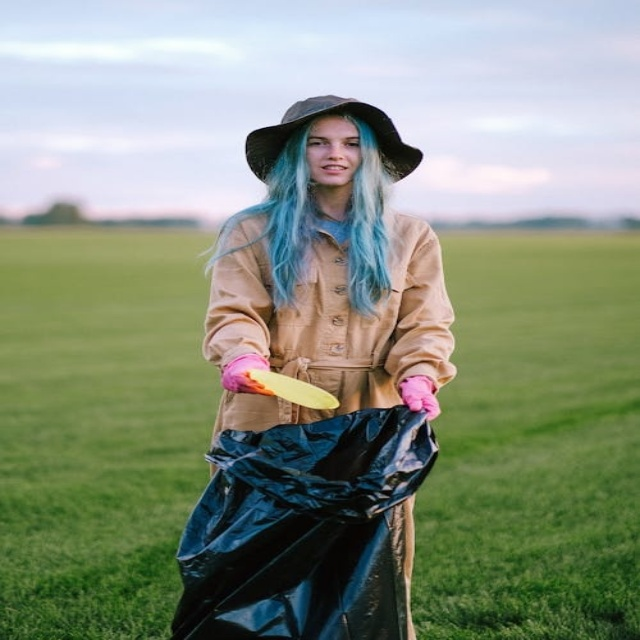Guantes: (221, 354, 271, 394), (399, 375, 440, 419)
Sin_gafas: (308, 135, 357, 150)
Sin_mascara: (310, 161, 351, 181)
